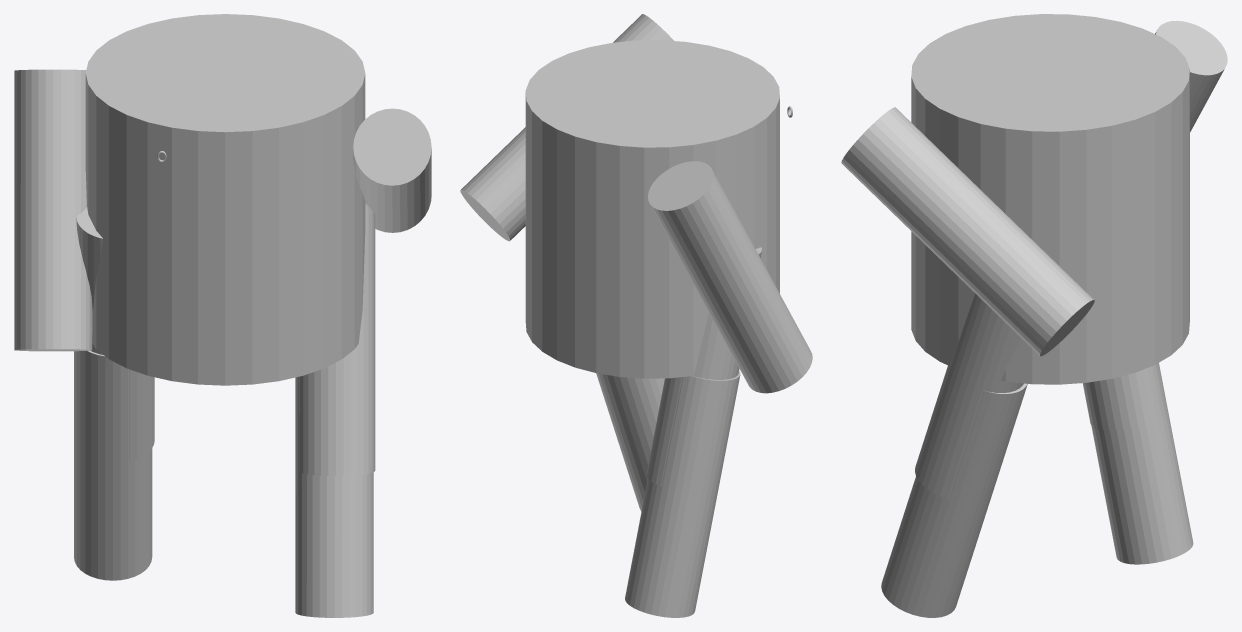
The picture shows the model from 3 angles, left to right: view 1: azimuth 30°, elevation 25°; view 2: azimuth 150°, elevation 25°; view 3: azimuth 270°, elevation 25°; orthographic projection. The views are drawn at different scales.
Parts seen in each view (by area): view 1: node_id11, node_id20, node_id5, node_id14, node_id8, node_id17, node_id23; view 2: node_id11, node_id20, node_id5, node_id17, node_id14, node_id23; view 3: node_id11, node_id17, node_id14, node_id5, node_id8, node_id23, node_id20.
Boxes of the visible parts, x1,y1,x2,y2 form: node_id11: (85, 14, 365, 385); node_id20: (14, 69, 92, 351); node_id5: (74, 350, 152, 580); node_id14: (295, 376, 373, 617); node_id8: (299, 203, 375, 475); node_id17: (353, 108, 431, 232); node_id23: (76, 207, 154, 462); node_id11: (525, 40, 779, 378); node_id20: (648, 161, 812, 393); node_id5: (625, 371, 740, 617); node_id17: (460, 14, 673, 241); node_id14: (596, 373, 663, 511); node_id23: (646, 247, 761, 486); node_id11: (911, 14, 1189, 384); node_id17: (841, 107, 1094, 356); node_id14: (881, 383, 1027, 617); node_id5: (1091, 363, 1193, 564); node_id8: (915, 293, 1023, 499); node_id23: (1082, 363, 1166, 430); node_id20: (1155, 20, 1227, 132).
Size of the model in its own units: 0.4083 by 0.512 by 0.3467.
Materials: 8 (8 with a texture image).
